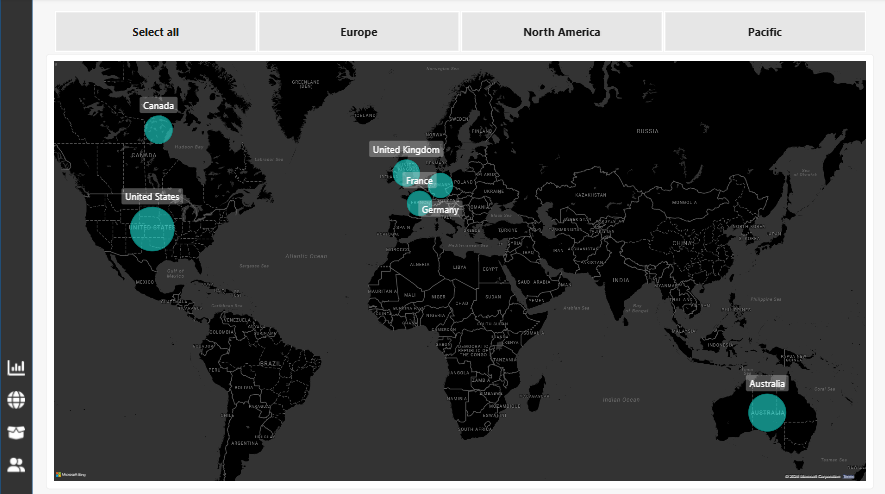

The page's visual inventory and layout, read from the dashboard file:
{"tool":"powerbi","page":{"name":"Map","canvas":[1920,1080],"ordinal":1},"visuals":[{"type":"shape","box":[0,0,70,1080],"z":0},{"type":"actionButton","box":[0,766.8,69.1,64.8],"z":0,"group":"g1"},{"type":"map","fields":{"Category":["Territory Lookup.Country"],"Size":["Measure Table.Total Orders"]},"box":[100,120,1787.5,940],"z":1000},{"type":"actionButton","box":[0,836.6,69.1,64.8],"z":1000,"group":"g1"},{"type":"slicer","fields":{"Values":["Territory Lookup.Continent"]},"box":[97.5,25,1792.5,92.5],"z":2000},{"type":"actionButton","box":[0,906.5,69.1,64.8],"z":2000,"group":"g1"},{"type":"group","id":"g1","title":"Navigation","box":[0,766.8,69.1,274.3],"z":3000},{"type":"actionButton","box":[0,976.3,69.1,64.8],"z":3000,"group":"g1"}]}

Visuals, with their boxes on the page's 1920x1080 design canvas (x1, y1, x2, y2). These are canvas units, not pixel positions in the 885x494 screenshot, which may show the page scaled, cropped or inside an application window:
shape: [0,0,70,1080]
actionButton: [0,767,69,832]
map - Territory Lookup.Country x Measure Table.Total Orders: [100,120,1888,1060]
actionButton: [0,837,69,901]
slicer - Territory Lookup.Continent: [98,25,1890,118]
actionButton: [0,906,69,971]
"Navigation" group: [0,767,69,1041]
actionButton: [0,976,69,1041]
